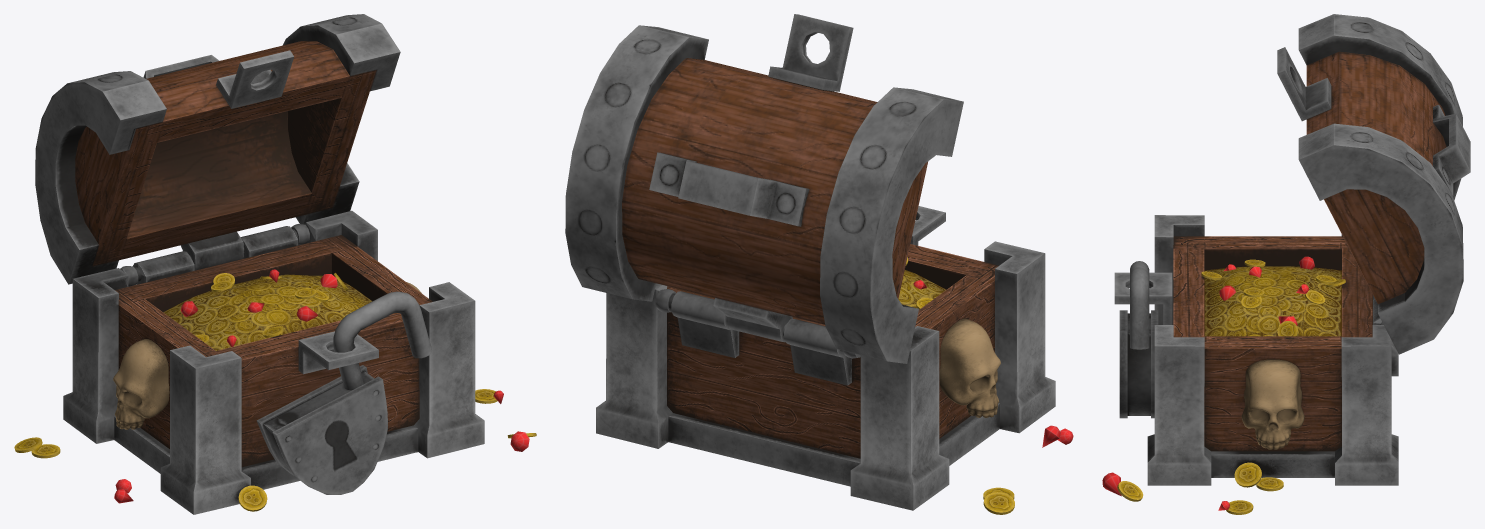
File: Pirate Treasure Chest Stylized 3D Model - Game Ready Asset.fbx
3 renders of one model, left to right at view 1: azimuth 30°, elevation 25°; view 2: azimuth 150°, elevation 25°; view 3: azimuth 270°, elevation 25°, orthographic. The views are drawn at different scales.
Visible parts, largest first — view 1: Chest_Final, Object001, Object002, Treasure_Final, Object003, Object010; view 2: Object001, Chest_Final, Object010, Treasure_Final; view 3: Chest_Final, Object001, Treasure_Final, Object002, Object010, Object003.
Boxes of the visible parts, x1,y1,x2,y2 form: Chest_Final: (63, 210, 484, 514); Object001: (35, 14, 400, 284); Object002: (256, 365, 387, 494); Treasure_Final: (163, 269, 372, 350); Object003: (333, 291, 431, 390); Object010: (14, 389, 536, 511); Object001: (565, 14, 963, 363); Chest_Final: (596, 206, 1055, 510); Object010: (983, 425, 1073, 514); Treasure_Final: (898, 270, 946, 309); Chest_Final: (1114, 215, 1398, 485); Object001: (1277, 14, 1470, 354); Treasure_Final: (1204, 256, 1341, 336); Object002: (1119, 310, 1158, 418); Object010: (1102, 462, 1283, 514); Object003: (1130, 261, 1149, 349).
Size of the model in its own units: 0.8758 by 0.7414 by 0.689.
